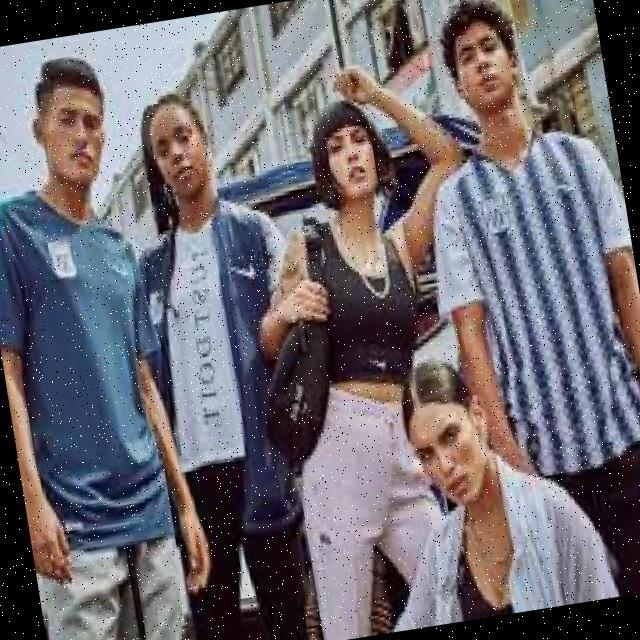Nike: (226, 254, 262, 279)
